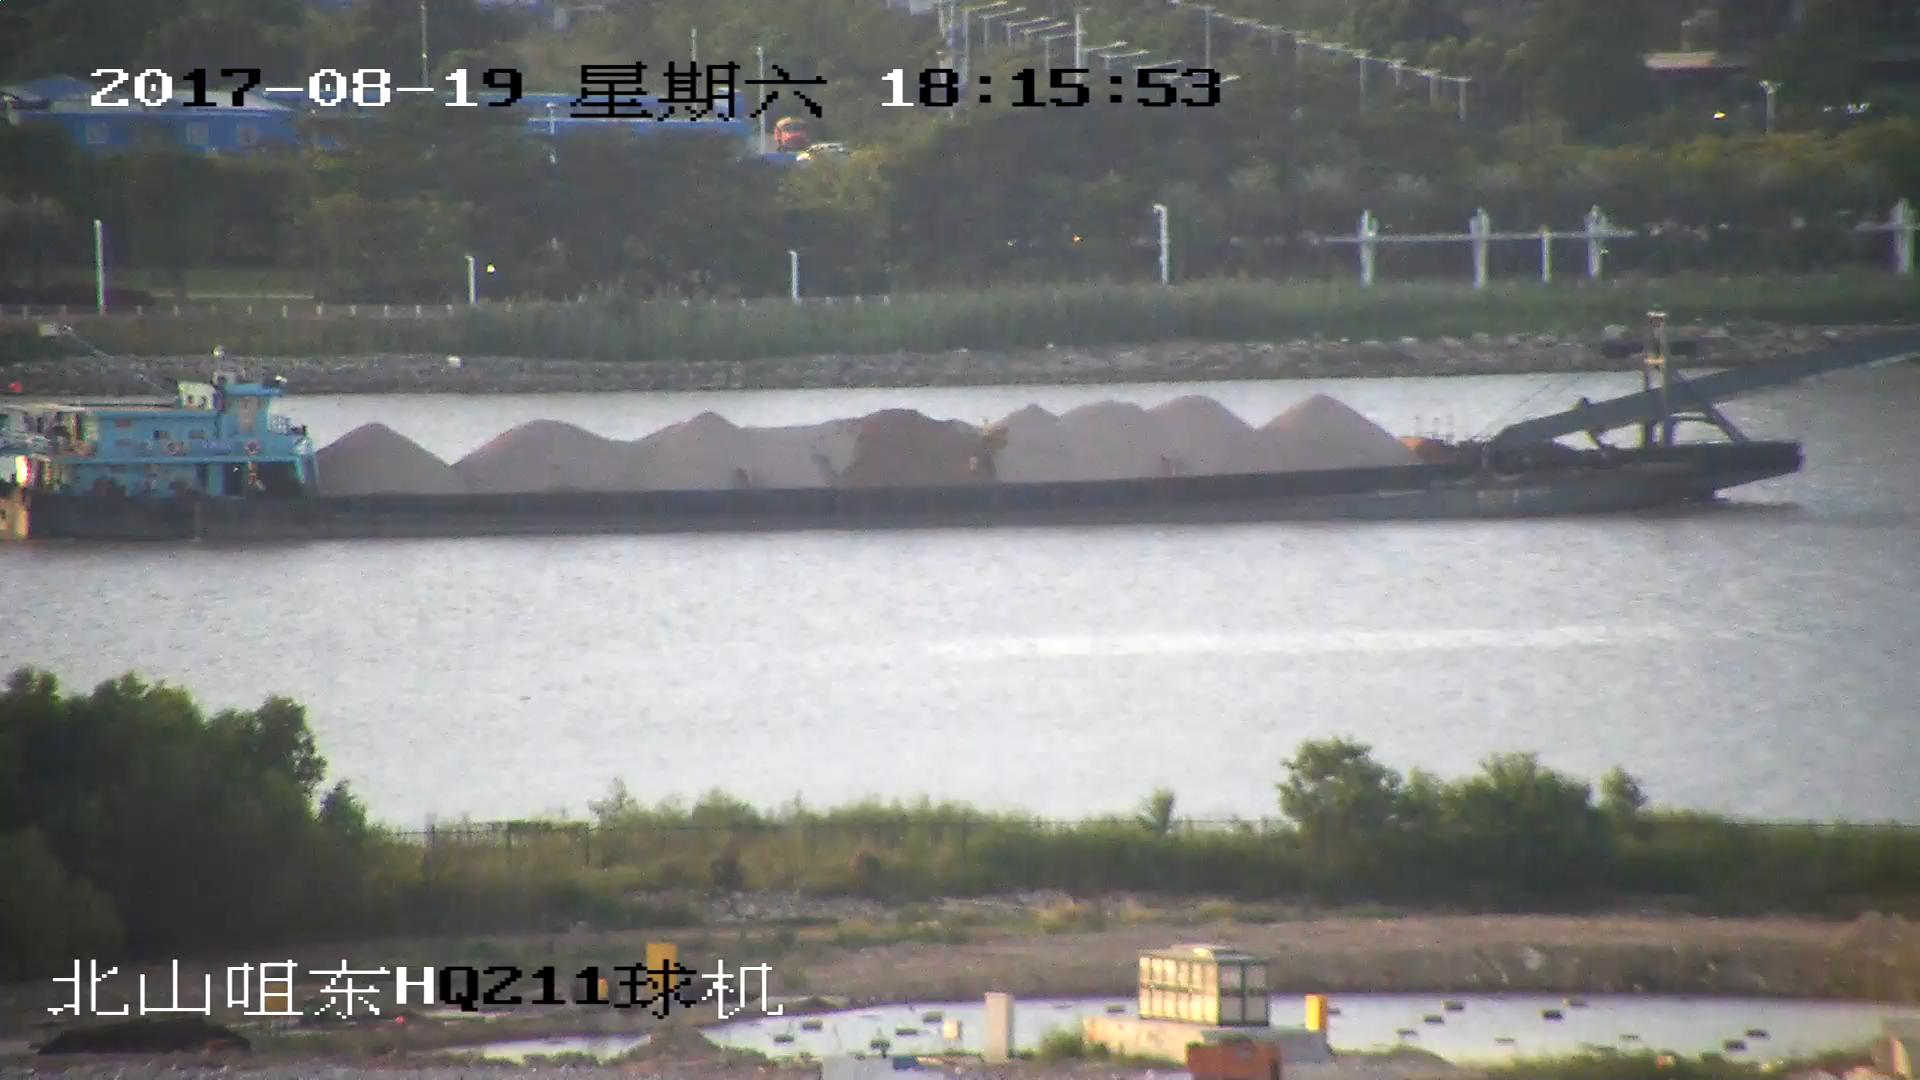ore carrier: (1, 312, 1920, 542)
